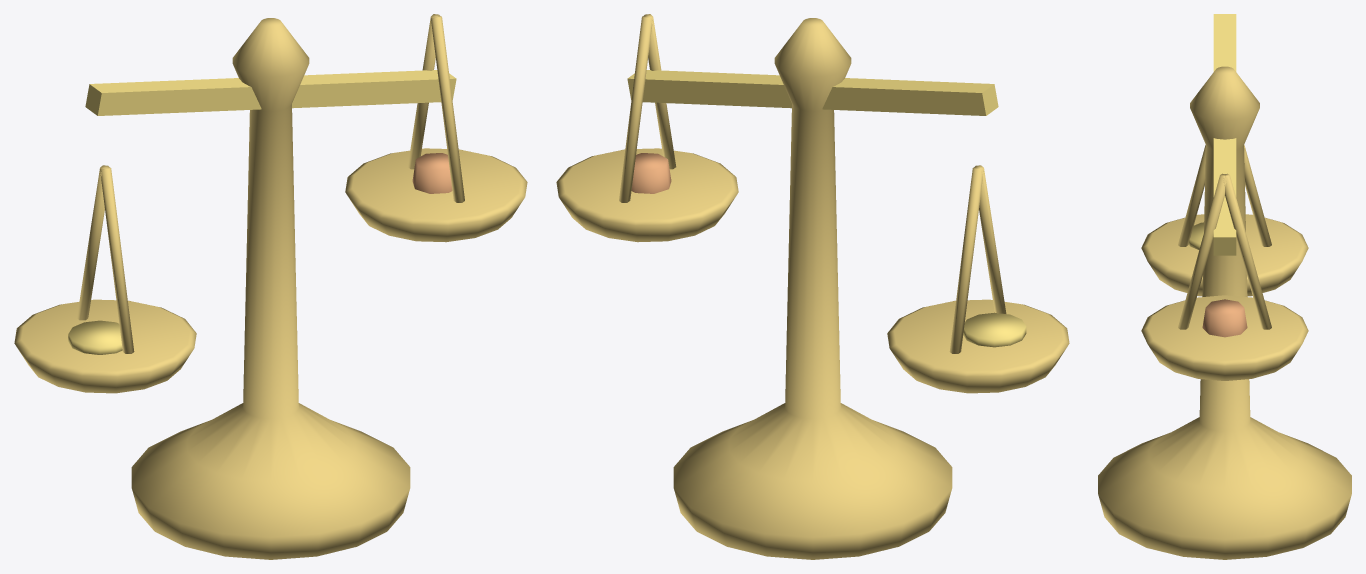
File: REL_GREED.glb
3 renders of one model, left to right at view 1: azimuth 30°, elevation 25°; view 2: azimuth 150°, elevation 25°; view 3: azimuth 270°, elevation 25°, orthographic. The views are drawn at different scales.
Parts seen in each view (by area): view 1: ScaleBase, Pan1, Pan-1, BalanceBeam, Chain-1-0.014, Chain1-0.014, Chain-10.014, Florin4, CounterWeight, Chain10.014; view 2: ScaleBase, Pan1, Pan-1, BalanceBeam, Chain-10.014, Chain10.014, Florin4, Chain-1-0.014, CounterWeight, Chain1-0.014; view 3: ScaleBase, Pan1, Pan-1, BalanceBeam, Chain1-0.014, Chain10.014, CounterWeight, Chain-10.014, Chain-1-0.014.
Part boxes in pixels (left/top/right/bottom): ScaleBase: left=131, top=18, right=410, bottom=559; Pan1: left=345, top=148, right=527, bottom=242; Pan-1: left=14, top=299, right=196, bottom=393; BalanceBeam: left=85, top=70, right=456, bottom=115; Chain-1-0.014: left=100, top=167, right=134, bottom=353; Chain1-0.014: left=431, top=16, right=464, bottom=202; Chain-10.014: left=77, top=165, right=109, bottom=320; Florin4: left=68, top=320, right=122, bottom=354; CounterWeight: left=412, top=153, right=452, bottom=193; Chain10.014: left=407, top=14, right=440, bottom=169; ScaleBase: left=673, top=18, right=952, bottom=559; Pan1: left=556, top=148, right=738, bottom=242; Pan-1: left=887, top=299, right=1069, bottom=393; BalanceBeam: left=627, top=70, right=998, bottom=115; Chain-10.014: left=949, top=167, right=983, bottom=353; Chain10.014: left=619, top=16, right=652, bottom=202; Florin4: left=963, top=312, right=1026, bottom=347; Chain-1-0.014: left=974, top=165, right=1006, bottom=313; CounterWeight: left=631, top=153, right=671, bottom=193; Chain1-0.014: left=643, top=14, right=676, bottom=169; ScaleBase: left=1098, top=66, right=1351, bottom=559; Pan1: left=1141, top=295, right=1308, bottom=380; Pan-1: left=1141, top=214, right=1308, bottom=296; BalanceBeam: left=1213, top=14, right=1236, bottom=255; Chain1-0.014: left=1178, top=173, right=1226, bottom=329; Chain10.014: left=1223, top=173, right=1271, bottom=329; CounterWeight: left=1202, top=299, right=1247, bottom=337; Chain-10.014: left=1244, top=145, right=1271, bottom=246; Chain-1-0.014: left=1178, top=145, right=1205, bottom=246.
Bounding box in the file's own units: 0.16 × 0.15 × 0.0788.
